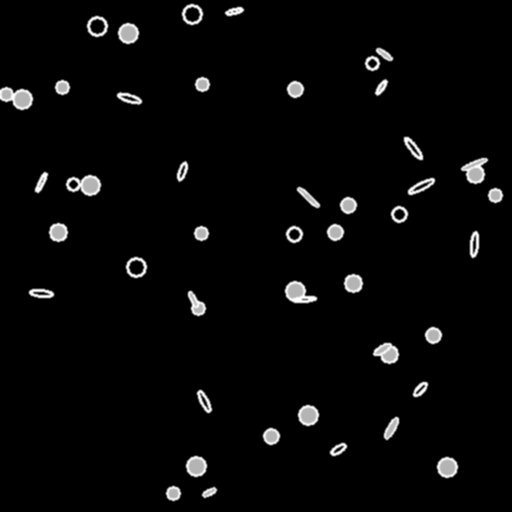pseudomonas: (296, 185, 320, 209), (402, 136, 424, 160), (407, 177, 435, 195), (461, 157, 487, 171), (116, 91, 142, 105), (383, 417, 399, 439), (196, 390, 212, 412), (372, 341, 392, 357), (375, 46, 393, 62), (34, 172, 48, 192), (469, 231, 479, 257), (412, 381, 428, 397), (329, 442, 347, 456), (176, 161, 188, 181), (187, 290, 199, 308), (375, 79, 387, 95), (201, 486, 217, 498), (30, 289, 52, 297), (293, 296, 315, 302), (226, 7, 242, 15)
synechocystis: (438, 458, 456, 476), (299, 406, 317, 424), (119, 24, 137, 42), (13, 90, 31, 108), (183, 5, 201, 23), (286, 282, 304, 300), (127, 258, 145, 276), (88, 17, 106, 35), (187, 457, 205, 475), (81, 176, 99, 194), (381, 346, 397, 362), (50, 224, 66, 240), (345, 275, 361, 291), (467, 166, 483, 182), (288, 82, 302, 96), (392, 207, 406, 221), (264, 429, 278, 443), (341, 198, 355, 212), (287, 227, 301, 241), (426, 328, 440, 342), (328, 225, 342, 239), (196, 78, 208, 90), (195, 227, 207, 239), (56, 81, 68, 93), (0, 88, 12, 100), (167, 487, 179, 499), (489, 189, 501, 201), (366, 57, 378, 69), (192, 302, 204, 314), (67, 178, 79, 190)
